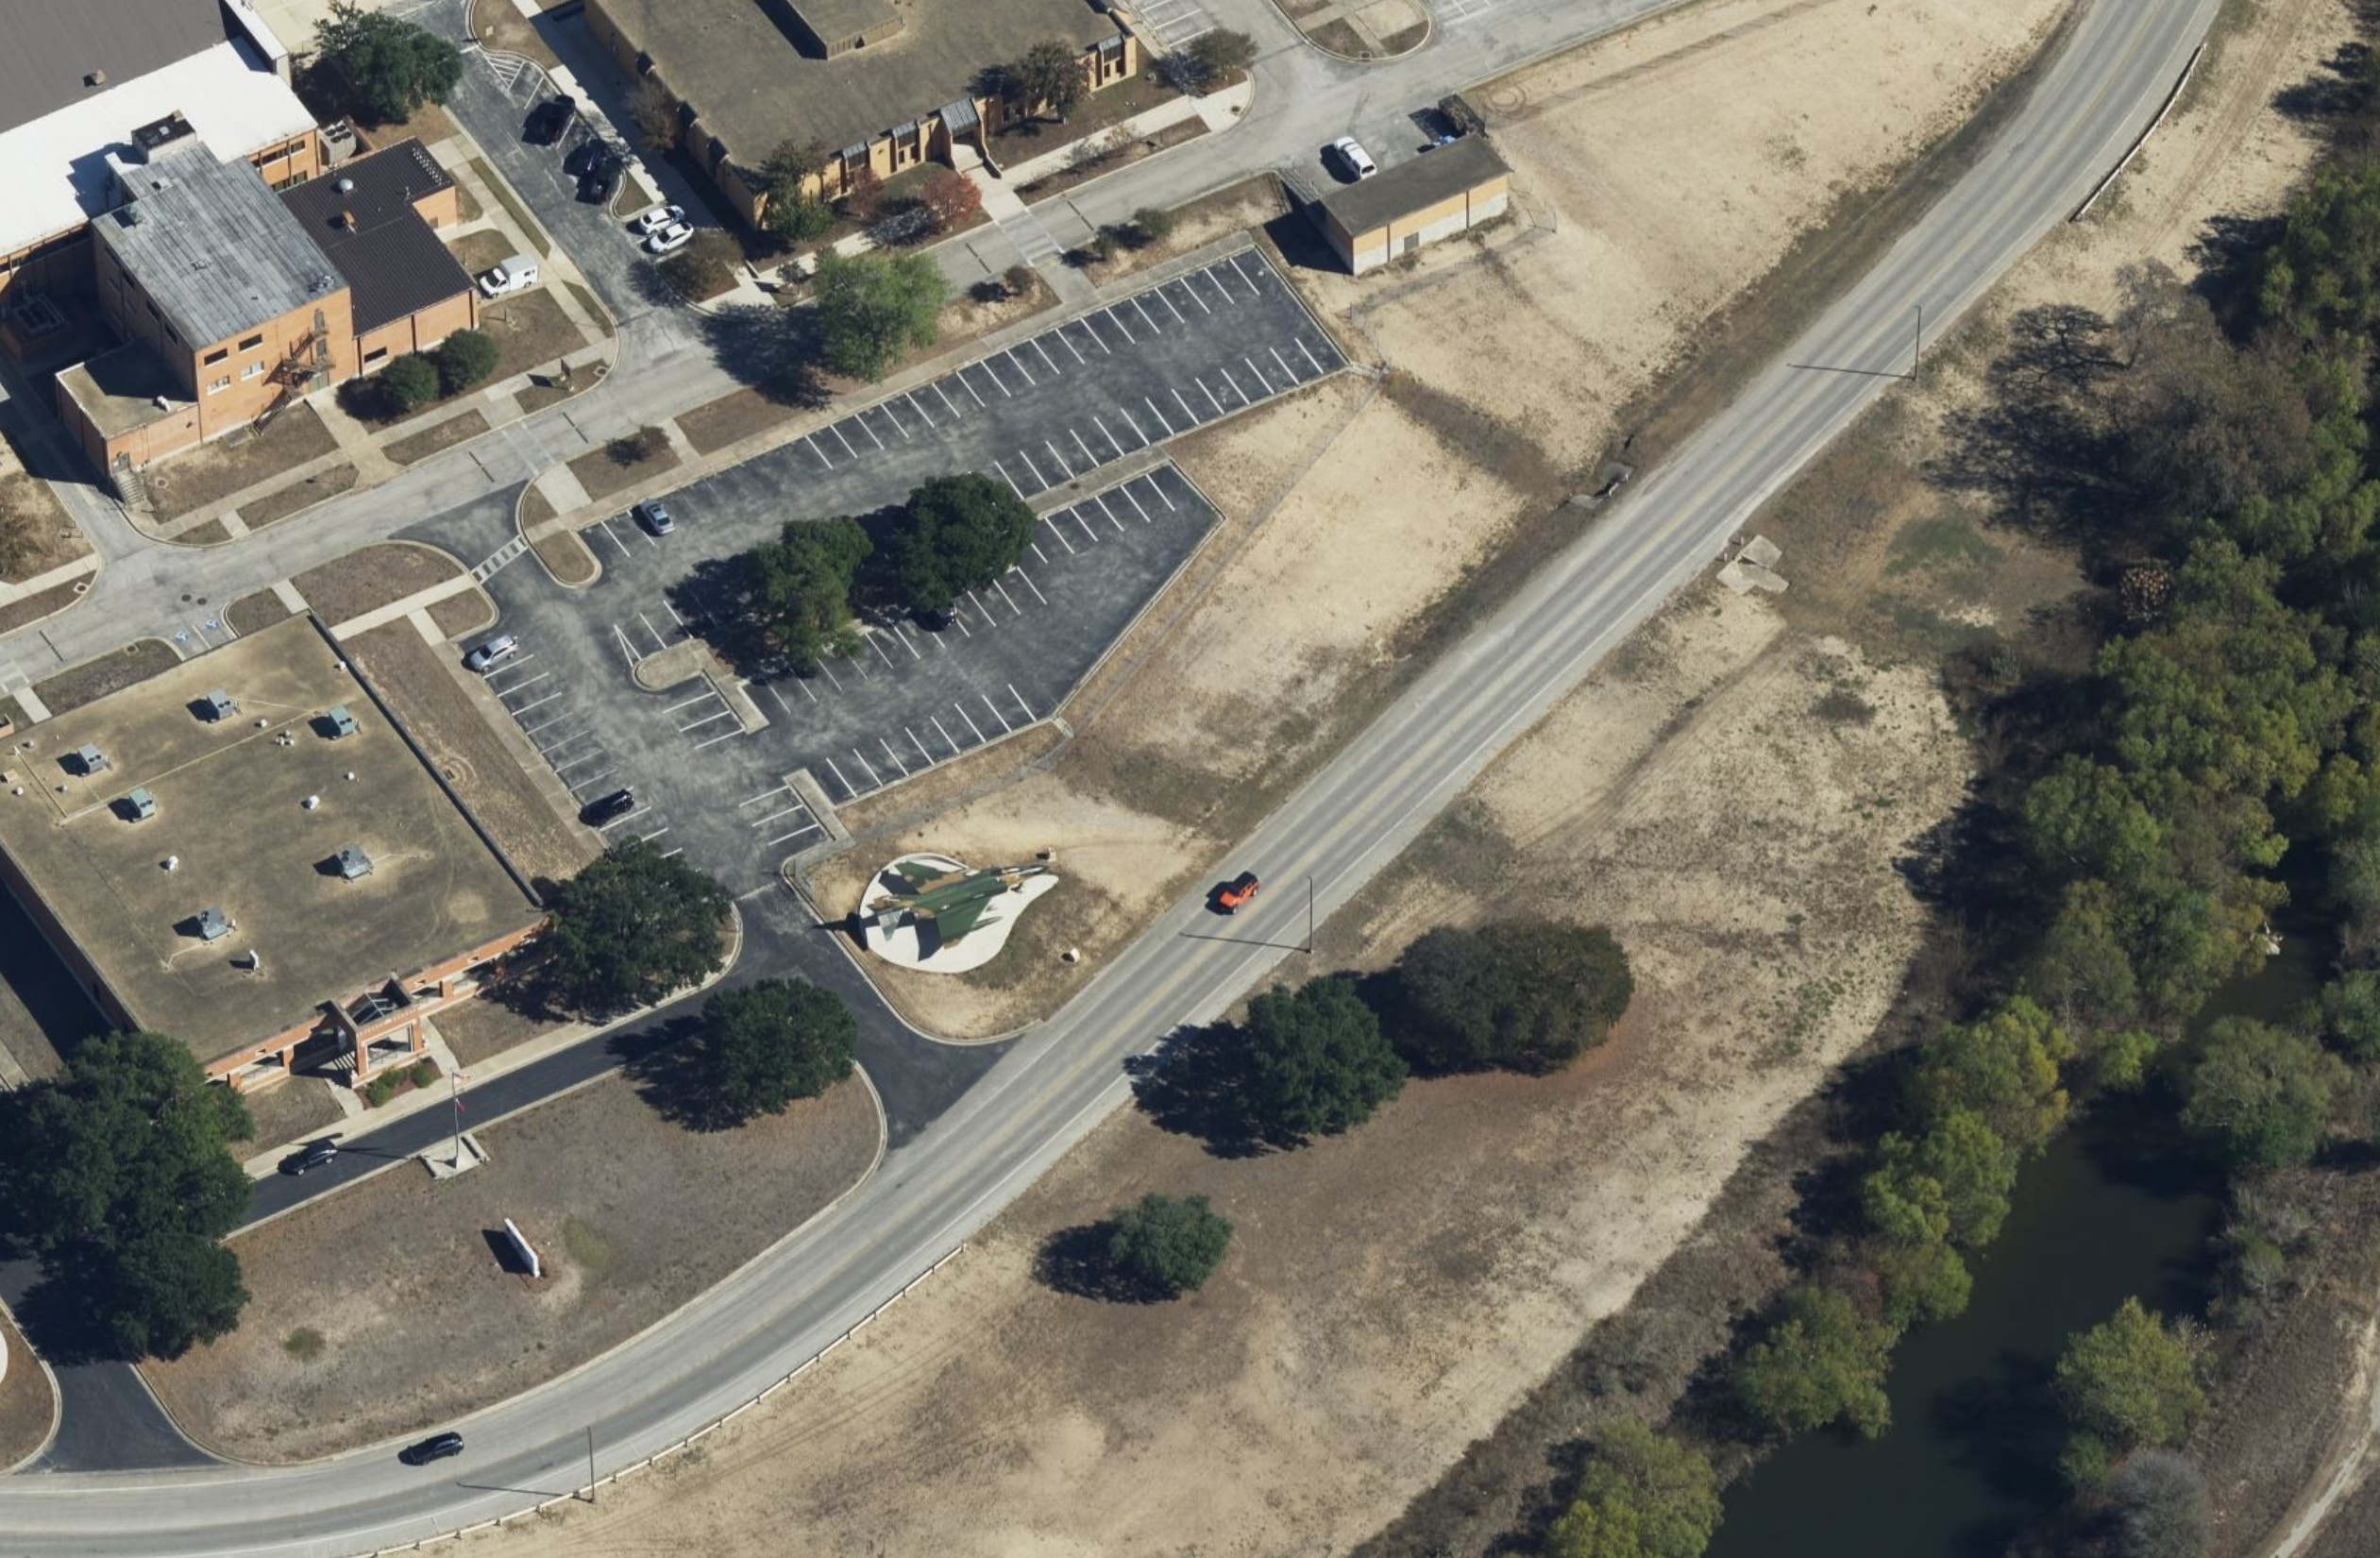F4: (864, 859, 1050, 949)
